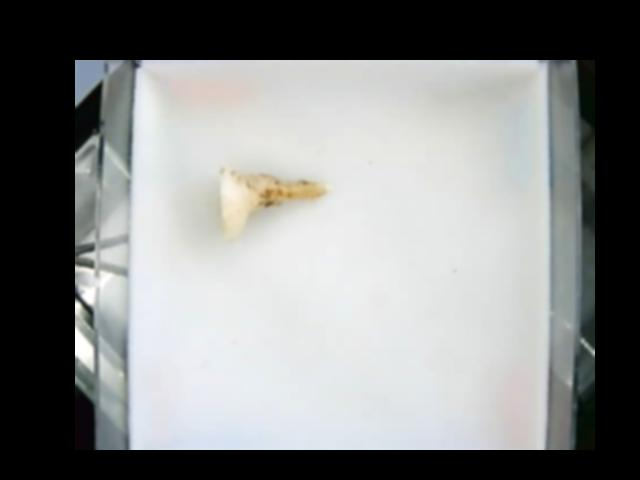Mooli: (213, 165, 338, 240)
